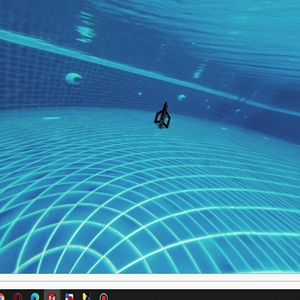submarine: (154, 103, 174, 124)
